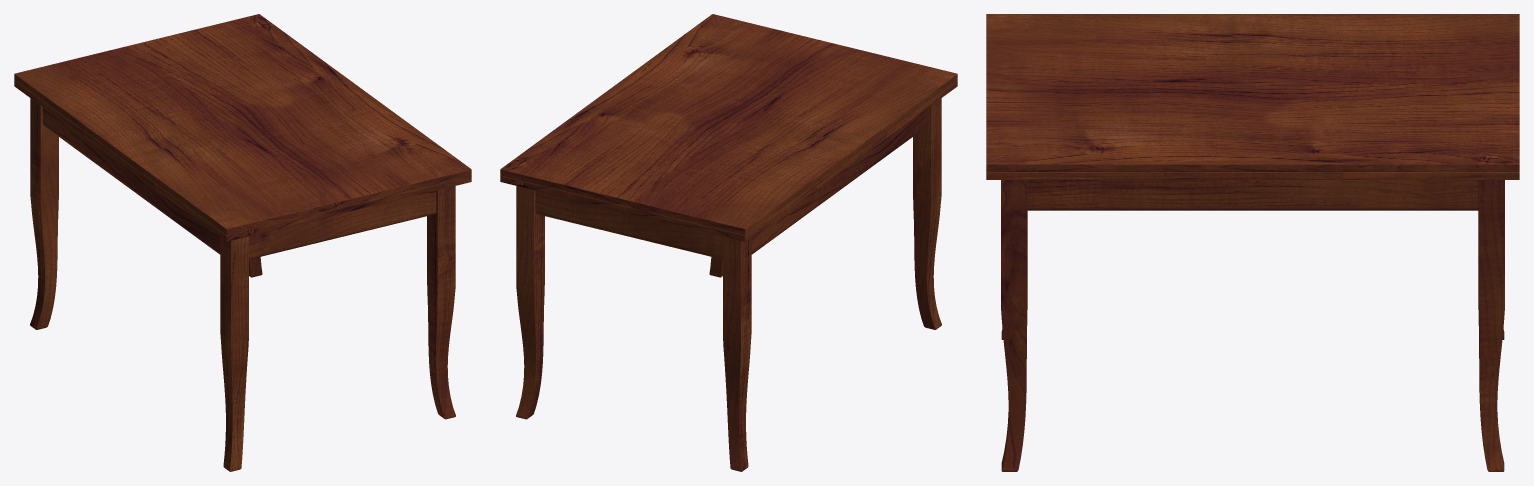
File: kitchen_table.fbx
3 views of the same model, side by side, from view 1: azimuth 30°, elevation 25°; view 2: azimuth 150°, elevation 25°; view 3: azimuth 270°, elevation 25° (orthographic). The views are drawn at different scales.
Visible parts, largest first — view 1: table&chair_Akacia_02.001; view 2: table&chair_Akacia_02.001; view 3: table&chair_Akacia_02.001.
Boxes of the visible parts, x1=… form: table&chair_Akacia_02.001: x1=14, y1=14, x2=471, y2=471; table&chair_Akacia_02.001: x1=500, y1=14, x2=957, y2=471; table&chair_Akacia_02.001: x1=986, y1=14, x2=1519, y2=471.
Size of the model in its own units: 325 by 317 by 487.
